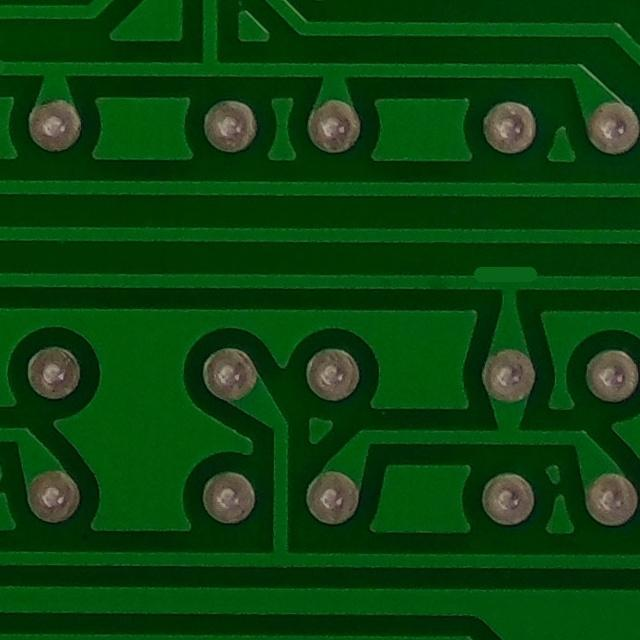spur: (453, 244, 555, 294)
